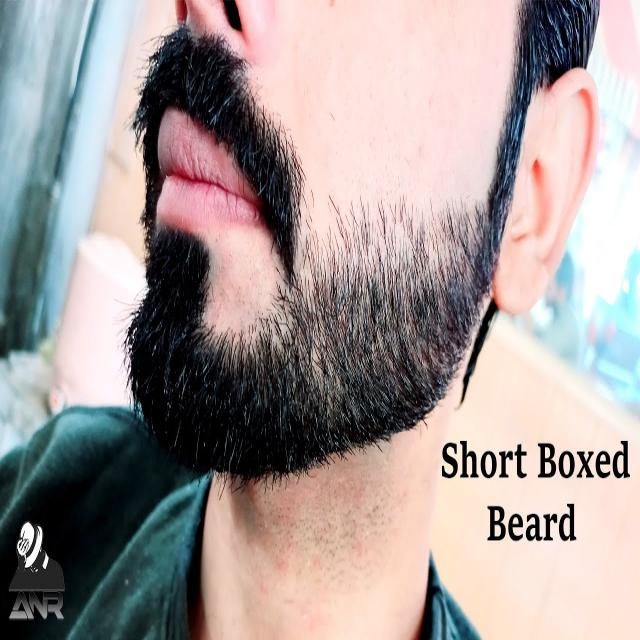beard: (126, 212, 488, 479)
hair: (510, 0, 600, 119)
